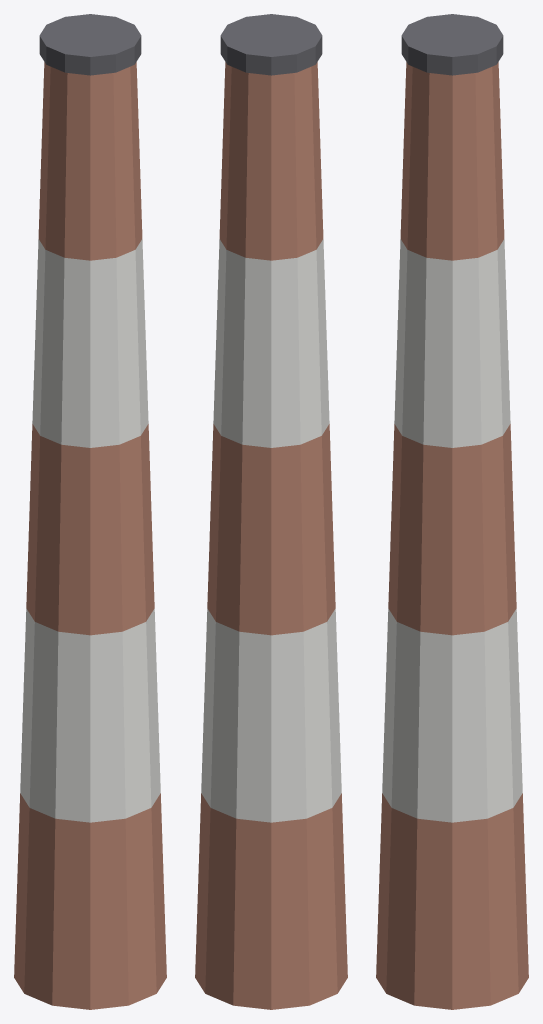
Rendered from chimney.glb.
The picture shows the model from 3 angles, left to right: view 1: azimuth 30°, elevation 25°; view 2: azimuth 150°, elevation 25°; view 3: azimuth 270°, elevation 25°; orthographic projection.
Visible parts, largest first — view 1: Chimney; view 2: Chimney; view 3: Chimney.
Part boxes in pixels (left/top/right/bottom): Chimney: left=14, top=14, right=166, bottom=1009; Chimney: left=195, top=14, right=347, bottom=1009; Chimney: left=376, top=14, right=528, bottom=1009.
Bounding box in the file's own units: 3 × 20.4 × 3.
